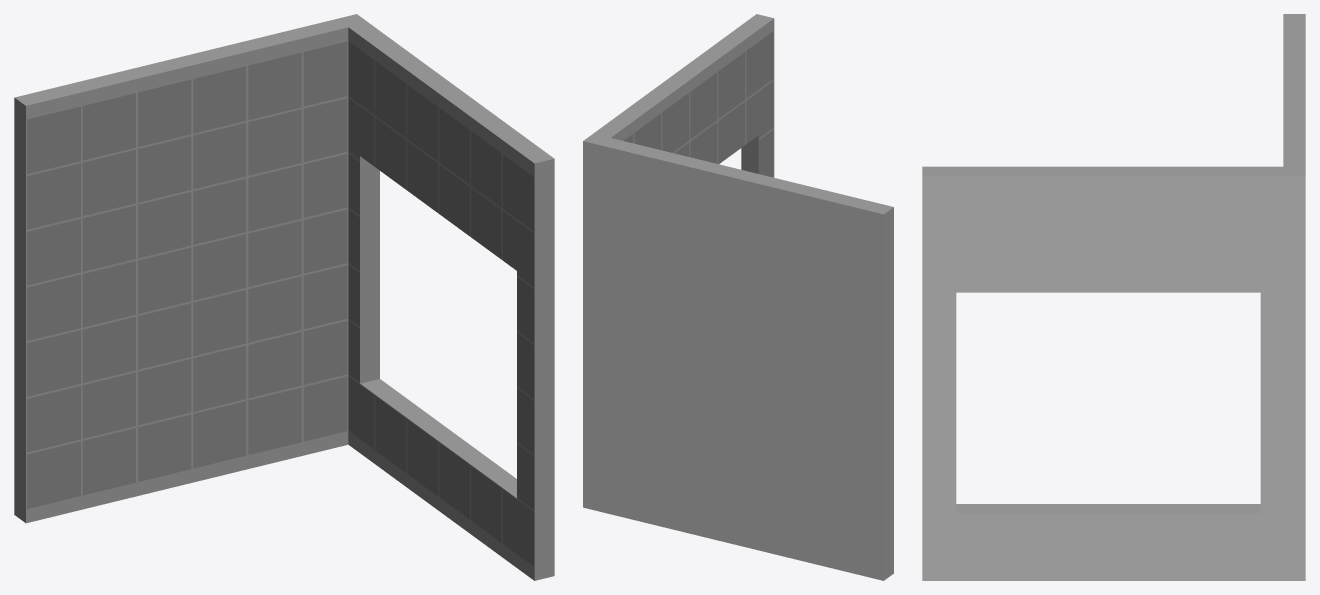
File: Wall1_C7_14.fbx
3 renders of one model, left to right at view 1: azimuth 30°, elevation 25°; view 2: azimuth 150°, elevation 25°; view 3: azimuth 270°, elevation 25°, orthographic. The views are drawn at different scales.
Parts seen in each view (by area): view 1: Wall1_C7_14; view 2: Wall1_C7_14; view 3: Wall1_C7_14.
Part boxes in pixels (bbox=[...]): Wall1_C7_14: bbox=[14, 14, 554, 580]; Wall1_C7_14: bbox=[583, 14, 893, 580]; Wall1_C7_14: bbox=[922, 14, 1305, 580].
Size of the model in its own units: 258 by 300 by 258.
